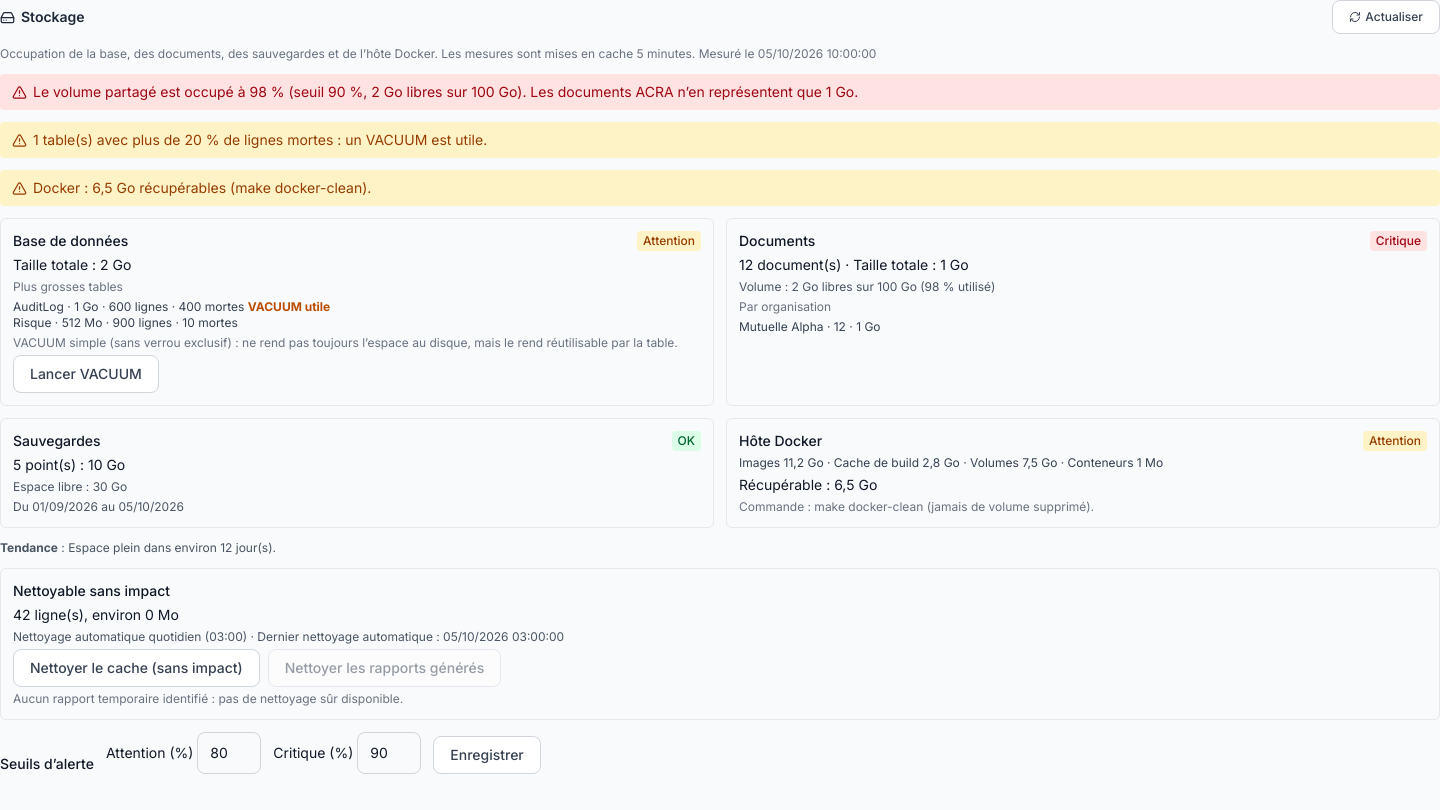
it: StorageUsagePanel › nettoyage : aperçu des catégories (B8 décochée), puis exécution et résultat
The width and height of the screenshot is (1440, 810).
Expected: the text "Base de données" is shown, x1=13 y1=232 x2=128 y2=249
Click the button "Nettoyer le cache (sans impact)".
click(136, 668)  # box x1=13 y1=649 x2=260 y2=687
(page scrolled)
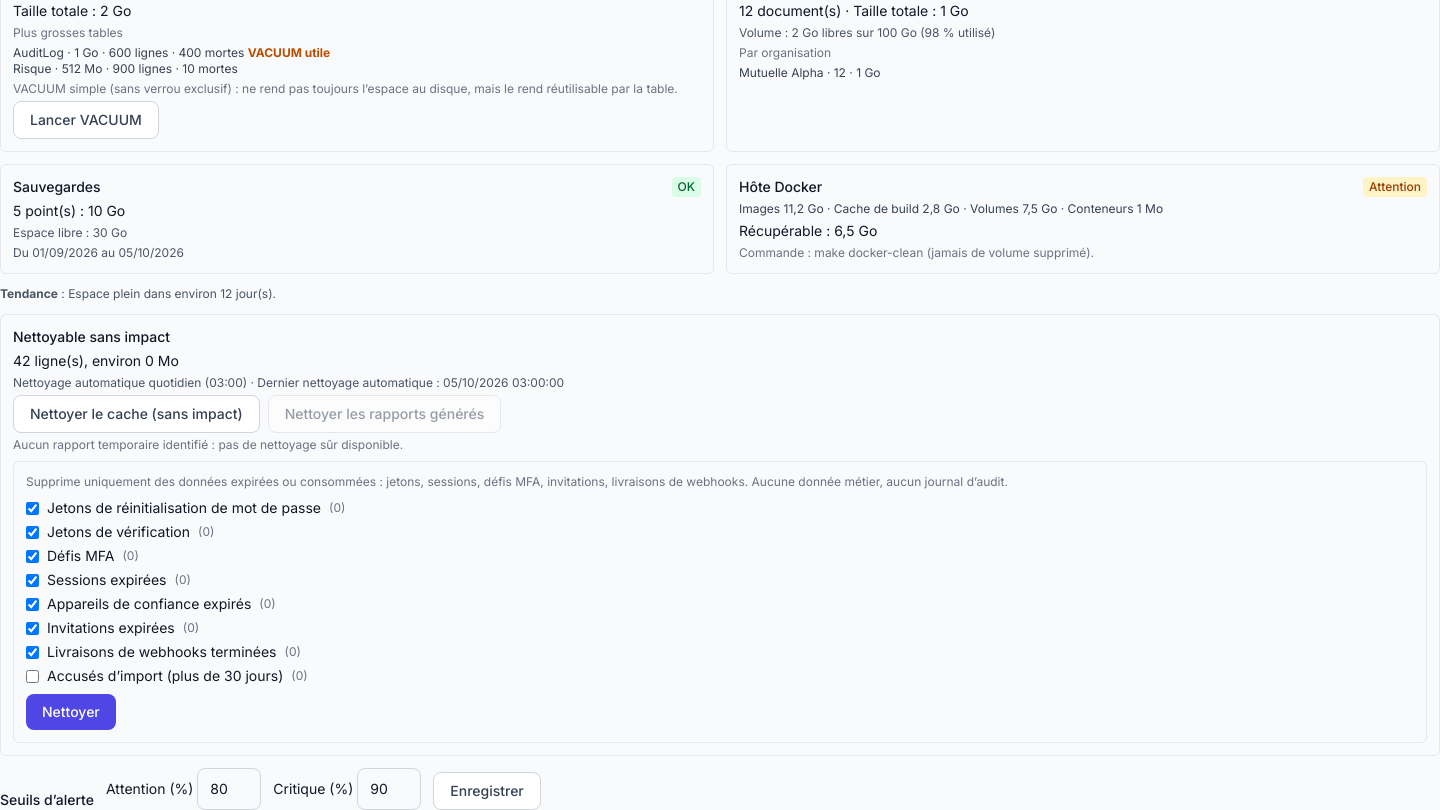
Now the text "Jetons de réinitialisation de mot de passe" is shown, box x1=47 y1=499 x2=321 y2=516
Now the checkbox labelled "Accusés d’import (plus de 30 jours) (0)" is not checked, box x1=26 y1=670 x2=39 y2=682
Now the checkbox labelled "Jetons de réinitialisation de mot de passe (0)" is checked, box x1=26 y1=502 x2=39 y2=514
Click the button "Nettoyer".
click(71, 712)  # box x1=26 y1=694 x2=116 y2=730
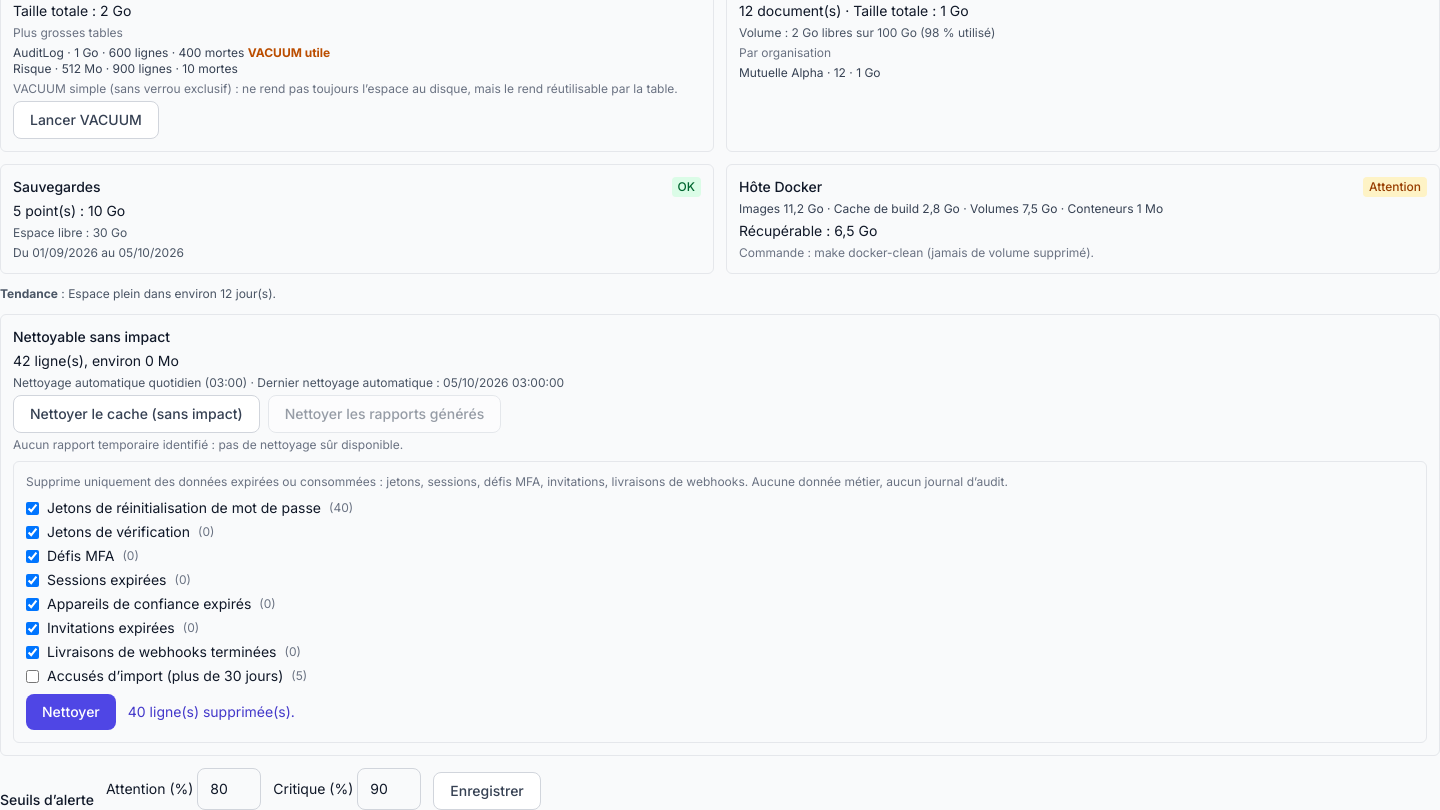
Now the text "40 ligne(s) supprimée(s)." is shown, box x1=128 y1=702 x2=295 y2=722
